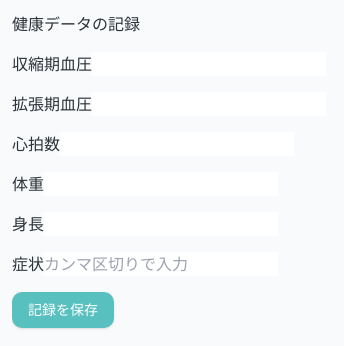
Test: HealthForm Component › disables submit button while loading
# Fill minimal data
Type "120" into the number field labelled "収縮期血圧". click: (209, 64)
box: [92,52,326,76]
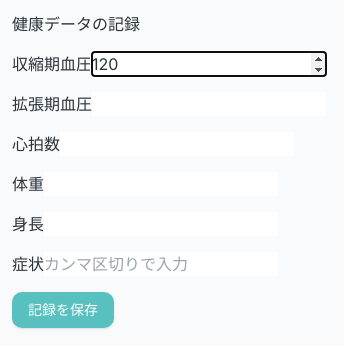
Type "80" into the number field labelled "拡張期血圧". click: (209, 104)
box: [92,92,326,116]
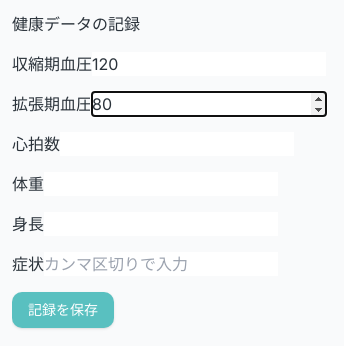
Click the button "記録を保存". click: (63, 310)
box: [12,292,114,328]
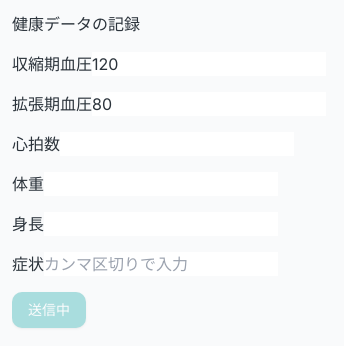
Check: the button named "記録を保存" is disabled, box [12,292,86,328]
